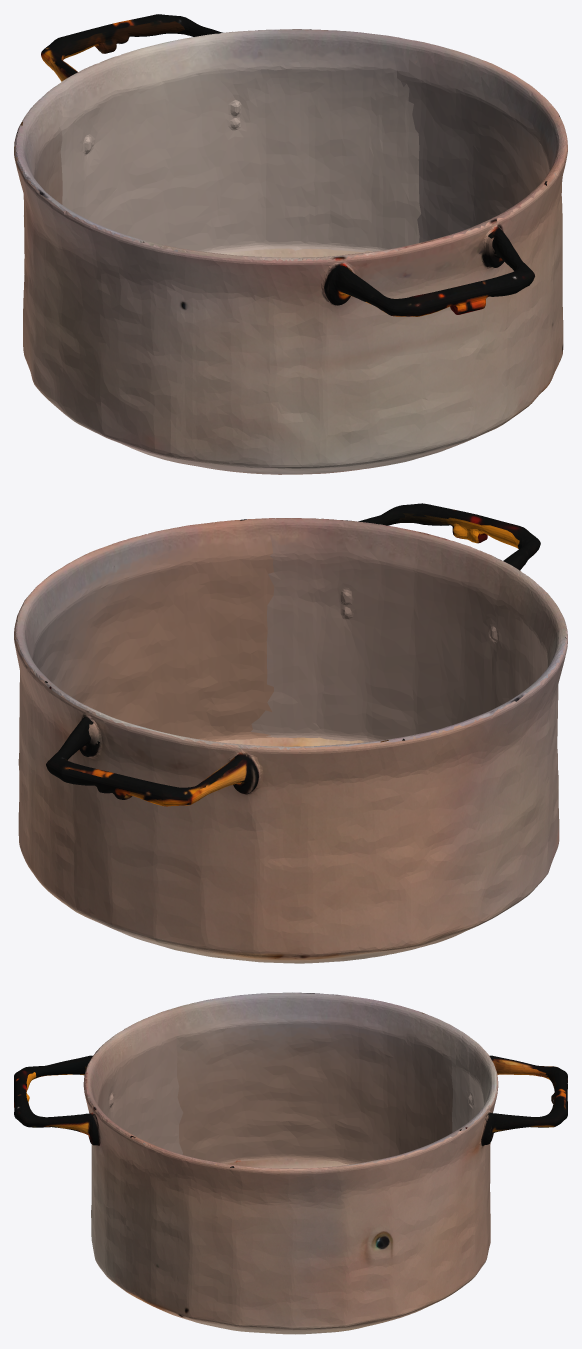
File: image_0002_segmented.glb
3 views of the same model, one above another, from view 1: azimuth 30°, elevation 25°; view 2: azimuth 150°, elevation 25°; view 3: azimuth 270°, elevation 25° (orthographic). The views are drawn at different scales.
Parts seen in each view (by area): view 1: tmpglbhb5jw.ply; view 2: tmpglbhb5jw.ply; view 3: tmpglbhb5jw.ply.
Part boxes in pixels (x1=…): tmpglbhb5jw.ply: x1=14, y1=14, x2=567, y2=474; tmpglbhb5jw.ply: x1=14, y1=503, x2=567, y2=963; tmpglbhb5jw.ply: x1=14, y1=992, x2=567, y2=1334.
Bounding box in the file's own units: 1.52 × 0.7108 × 1.99.
Materials: 1 (1 with a texture image).
